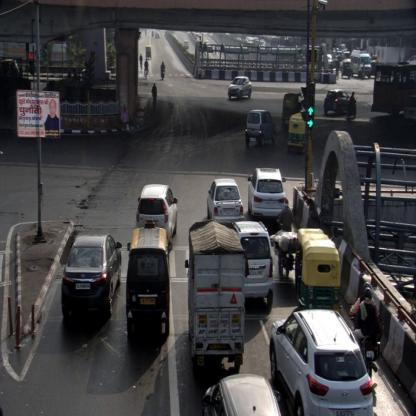bus: (371, 62, 415, 116), (352, 48, 372, 82)
car: (271, 309, 376, 415), (62, 232, 122, 323), (127, 224, 172, 338), (233, 218, 273, 310), (202, 374, 281, 415), (136, 184, 180, 242), (247, 166, 288, 222), (207, 178, 243, 223), (245, 110, 276, 146), (323, 90, 350, 113), (226, 77, 252, 99)
motorcycle: (352, 282, 379, 374), (277, 200, 295, 281), (346, 90, 358, 120), (142, 59, 148, 79), (160, 61, 166, 80)
truck: (185, 221, 243, 374)
